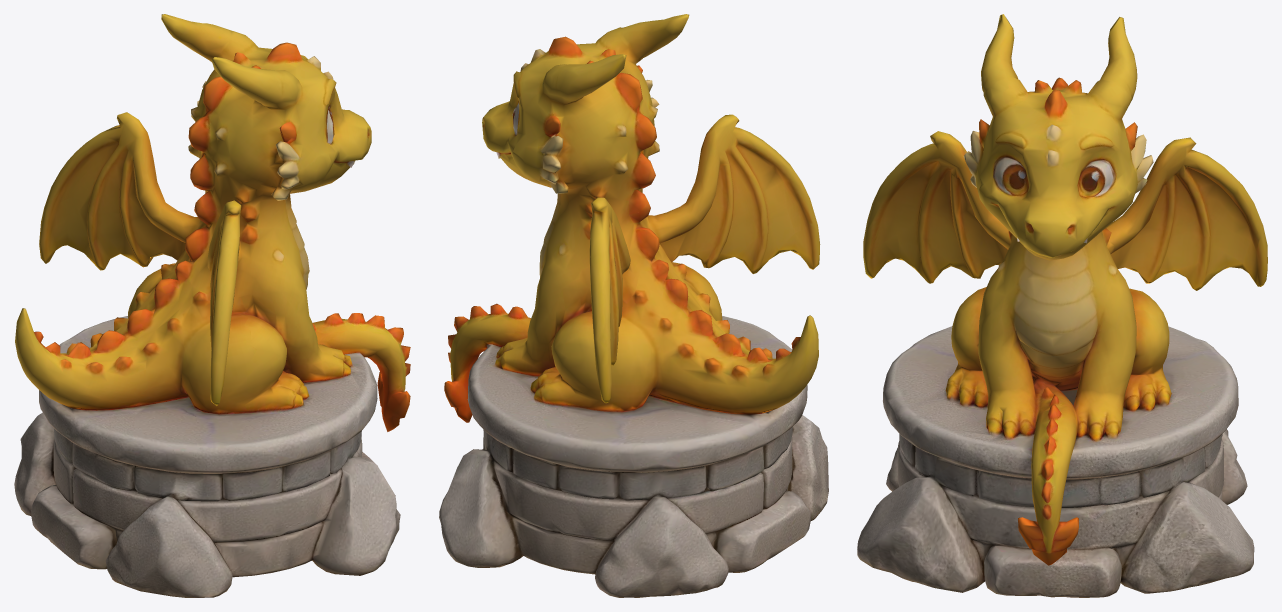
File: dragon_statue.glb
The picture shows the model from 3 angles, left to right: view 1: azimuth 30°, elevation 25°; view 2: azimuth 150°, elevation 25°; view 3: azimuth 270°, elevation 25°; orthographic projection. The views are drawn at different scales.
Parts seen in each view (by area): view 1: tripo_node_8e191b20-1d44-49db-ba17-2ba80bbd72eb; view 2: tripo_node_8e191b20-1d44-49db-ba17-2ba80bbd72eb; view 3: tripo_node_8e191b20-1d44-49db-ba17-2ba80bbd72eb.
Boxes of the visible parts, <box> form: tripo_node_8e191b20-1d44-49db-ba17-2ba80bbd72eb: <box>14,14,410,597</box>; tripo_node_8e191b20-1d44-49db-ba17-2ba80bbd72eb: <box>439,14,828,597</box>; tripo_node_8e191b20-1d44-49db-ba17-2ba80bbd72eb: <box>857,14,1267,597</box>.
Bounding box in the file's own units: 0.2046 × 0.25 × 0.1851.
1 material, 1 textured.
